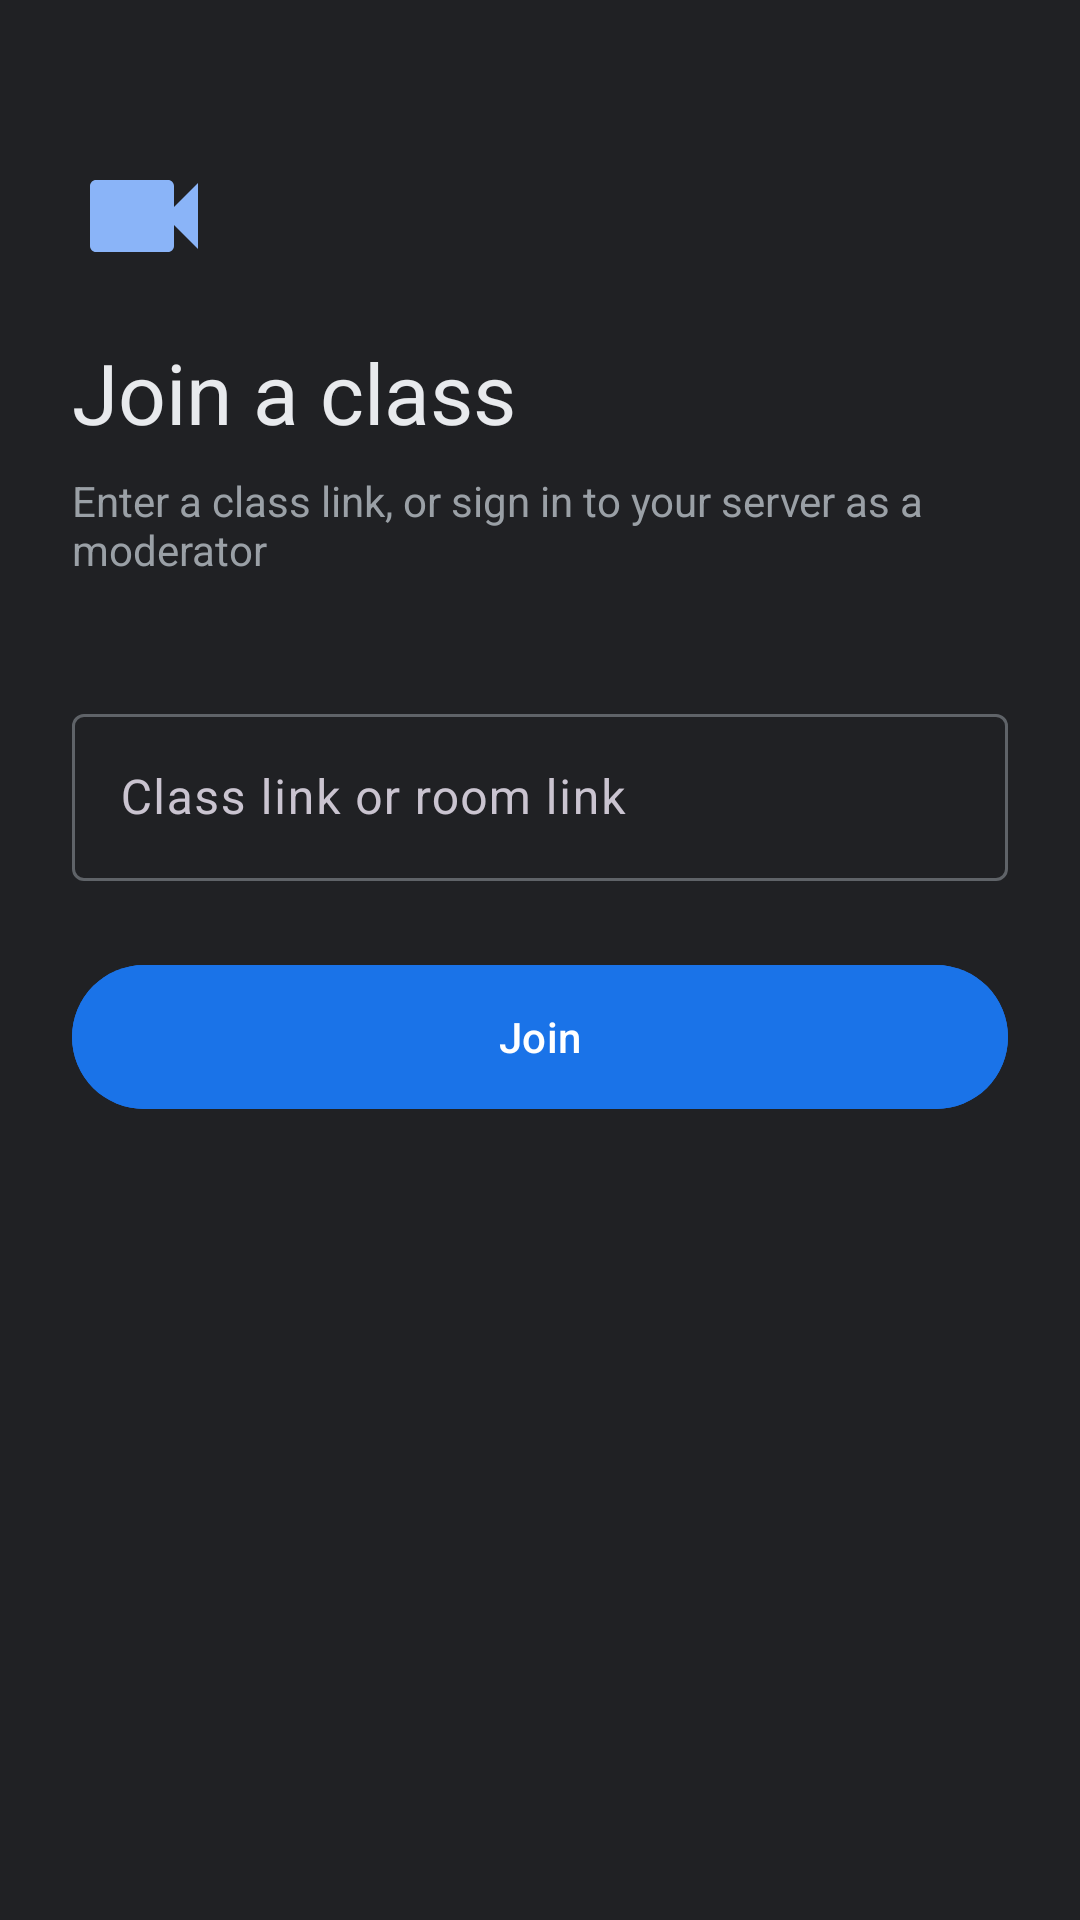

Icons on this 1080*1920 Android screen, each with its box as (x1, y1, x2, y2):
videocam: (90, 180, 198, 252)
